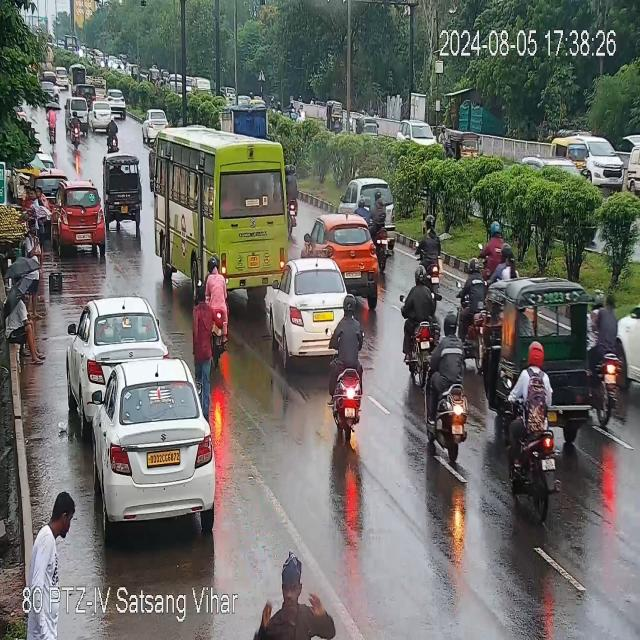2-wheelers: (504, 342, 562, 498), (426, 313, 467, 459), (398, 268, 441, 387), (333, 291, 362, 445), (595, 291, 623, 418), (460, 264, 488, 368), (208, 252, 230, 362), (474, 218, 515, 275), (412, 227, 445, 285), (373, 192, 392, 268), (287, 160, 298, 234), (104, 114, 123, 152), (68, 112, 85, 145), (355, 193, 371, 225), (45, 105, 58, 136)
auto: (495, 277, 592, 377), (102, 158, 145, 228), (550, 130, 587, 179), (446, 131, 486, 162), (76, 85, 95, 102)
bus: (149, 117, 294, 288)
car: (92, 357, 213, 522), (66, 295, 164, 397), (267, 255, 351, 358), (304, 214, 382, 280), (53, 186, 106, 254), (346, 178, 395, 244), (590, 127, 626, 195), (623, 298, 640, 385), (90, 102, 118, 130), (142, 105, 162, 134), (105, 91, 128, 113), (67, 98, 89, 120), (76, 93, 92, 110)
pedestrian: (24, 478, 82, 590), (266, 557, 326, 640), (4, 289, 48, 364), (192, 291, 214, 405), (27, 221, 41, 313), (21, 182, 46, 230)
truck: (225, 92, 268, 141)
